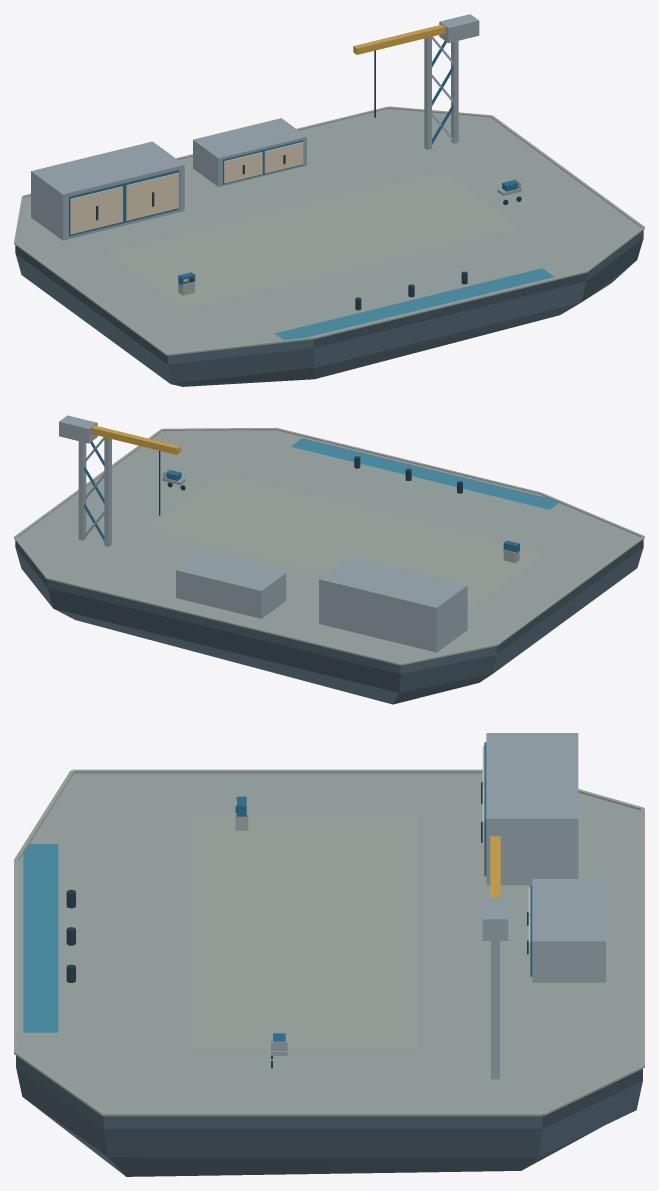
File: fi10-cargo-quay.glb
3 renders of one model, top to bottom at view 1: azimuth 30°, elevation 25°; view 2: azimuth 150°, elevation 25°; view 3: azimuth 270°, elevation 25°, orthographic. The views are drawn at different scales.
Parts seen in each view (by area): view 1: GEO_ground, GEO_forecourt, GEO_foundation, LAND_0_cargo, LAND_1_cargo, LAND_2_crane, GEO_rim, GEO_water; view 2: GEO_ground, GEO_forecourt, GEO_foundation, LAND_0_cargo, LAND_1_cargo, GEO_rim, LAND_2_crane, GEO_water; view 3: GEO_ground, GEO_forecourt, GEO_foundation, LAND_0_cargo, LAND_1_cargo, GEO_rim, GEO_water, LAND_2_crane.
Boxes of the visible parts, x1,y1,x2,y2 form: GEO_ground: (17,109,640,353); GEO_forecourt: (107,171,520,309); GEO_foundation: (15,230,643,386); LAND_0_cargo: (31,141,184,240); LAND_1_cargo: (193,118,306,186); LAND_2_crane: (353,14,479,149); GEO_rim: (14,106,644,355); GEO_water: (275,268,553,339); GEO_ground: (17,430,640,662); GEO_forecourt: (147,473,546,607); GEO_foundation: (15,539,643,704); LAND_0_cargo: (319,556,467,652); LAND_1_cargo: (176,552,286,618); GEO_rim: (14,427,644,665); LAND_2_crane: (59,415,180,546); GEO_water: (291,438,559,509); GEO_ground: (18,773,640,1112); GEO_forecourt: (191,812,417,1049); GEO_foundation: (16,1055,642,1176); LAND_0_cargo: (481,733,578,885); LAND_1_cargo: (527,879,605,982); GEO_rim: (14,769,644,1116); GEO_water: (23,844,58,1032); LAND_2_crane: (482,836,508,1079).
Size of the model in its own units: 44.22 by 15.05 by 34.22.
